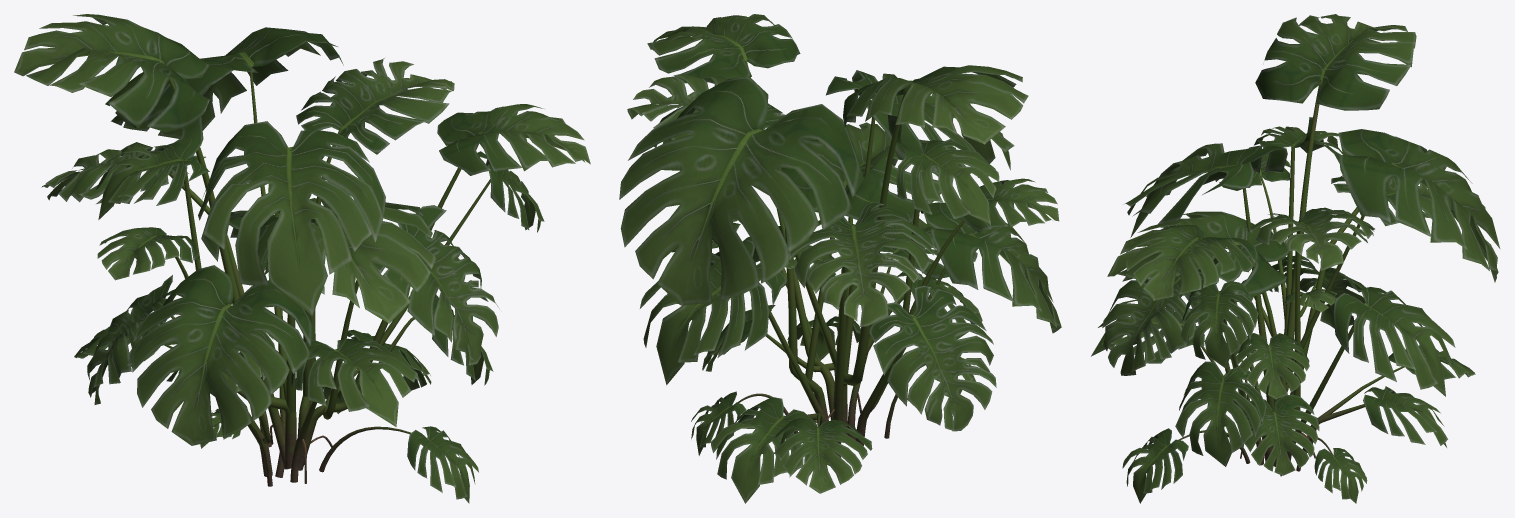
File: Little_Plant_Leaves.glb
The picture shows the model from 3 angles, left to right: view 1: azimuth 30°, elevation 25°; view 2: azimuth 150°, elevation 25°; view 3: azimuth 270°, elevation 25°; orthographic projection. The views are drawn at different scales.
Parts seen in each view (by area): view 1: Little_Plant_Leaves; view 2: Little_Plant_Leaves; view 3: Little_Plant_Leaves.
Boxes of the visible parts, bbox=[...] form: Little_Plant_Leaves: bbox=[14, 14, 590, 503]; Little_Plant_Leaves: bbox=[619, 14, 1061, 503]; Little_Plant_Leaves: bbox=[1091, 14, 1500, 503].
Bounding box in the file's own units: 0.8695 × 0.8109 × 0.7911.
Materials: 2 (2 with a texture image).
